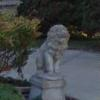Statue: (26, 15, 84, 97)
